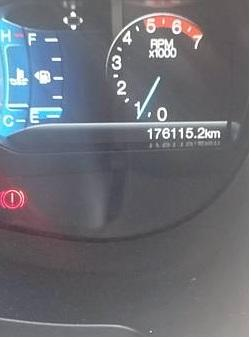odometer: (142, 122, 224, 142)
